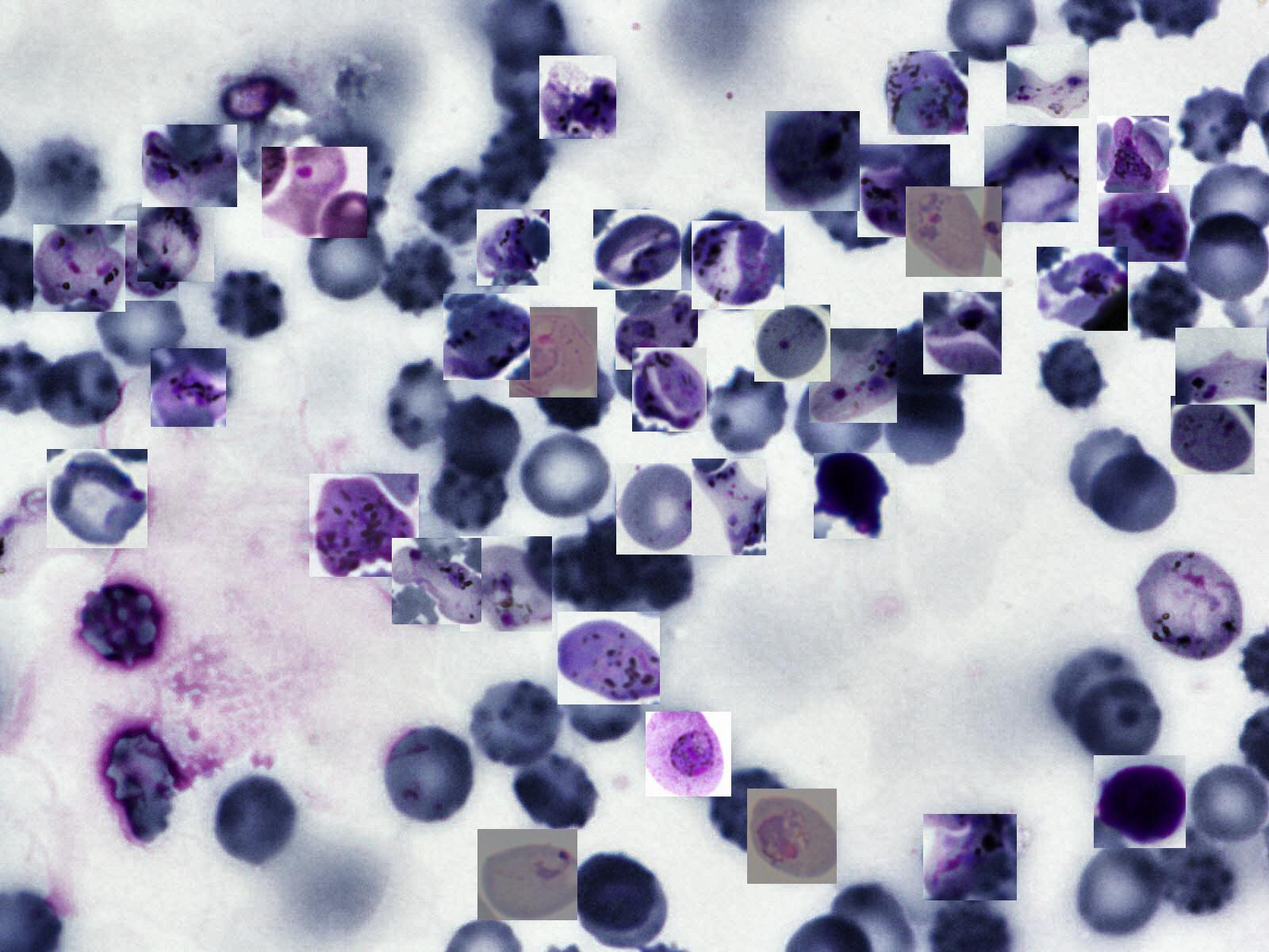Infected: (1133, 547, 1248, 662), (309, 474, 419, 577), (47, 449, 148, 548), (262, 147, 367, 238), (765, 111, 860, 211), (558, 612, 660, 704), (477, 829, 577, 920), (984, 127, 1079, 222), (460, 536, 552, 631), (906, 186, 1002, 277), (857, 144, 950, 237), (1094, 755, 1186, 848), (747, 789, 837, 884), (809, 328, 897, 423), (616, 463, 706, 555), (692, 221, 784, 309), (923, 814, 1017, 900), (33, 225, 125, 312), (509, 307, 597, 397), (142, 125, 237, 207), (392, 538, 481, 624), (1037, 248, 1128, 332), (443, 294, 530, 380), (646, 712, 731, 797), (692, 459, 767, 555), (593, 209, 681, 290), (1175, 328, 1267, 405), (1098, 185, 1190, 262), (814, 453, 895, 539), (888, 52, 968, 135), (616, 290, 699, 370), (1171, 396, 1255, 474), (923, 292, 1002, 374), (539, 56, 616, 139), (632, 347, 707, 432), (1006, 44, 1089, 118), (137, 204, 214, 282), (151, 348, 226, 427), (754, 305, 830, 382), (105, 221, 178, 301), (477, 209, 550, 286), (1097, 117, 1169, 194)
Uninfected: (1071, 840, 1173, 944), (377, 723, 478, 825), (788, 368, 891, 466), (1068, 671, 1168, 770), (90, 275, 191, 373), (298, 208, 395, 307), (465, 679, 565, 770), (519, 434, 618, 524), (105, 730, 178, 851), (568, 854, 666, 943), (806, 163, 906, 250), (71, 582, 165, 674), (1086, 451, 1183, 539), (435, 393, 526, 486), (1050, 647, 1141, 739), (211, 774, 298, 869), (703, 366, 792, 458), (1062, 425, 1155, 513), (539, 535, 639, 616), (510, 749, 603, 833), (611, 321, 697, 411), (492, 37, 584, 121), (473, 110, 554, 204), (886, 381, 966, 474), (36, 350, 130, 429), (527, 350, 615, 434), (707, 768, 795, 852), (563, 657, 645, 747), (1186, 212, 1269, 300), (575, 516, 654, 606), (376, 238, 458, 319), (1175, 87, 1259, 166), (1190, 762, 1269, 846), (1125, 267, 1207, 344), (207, 267, 289, 344), (387, 358, 454, 451), (429, 455, 509, 532), (884, 321, 968, 392), (684, 213, 761, 287), (1032, 340, 1107, 412), (418, 168, 496, 237)
